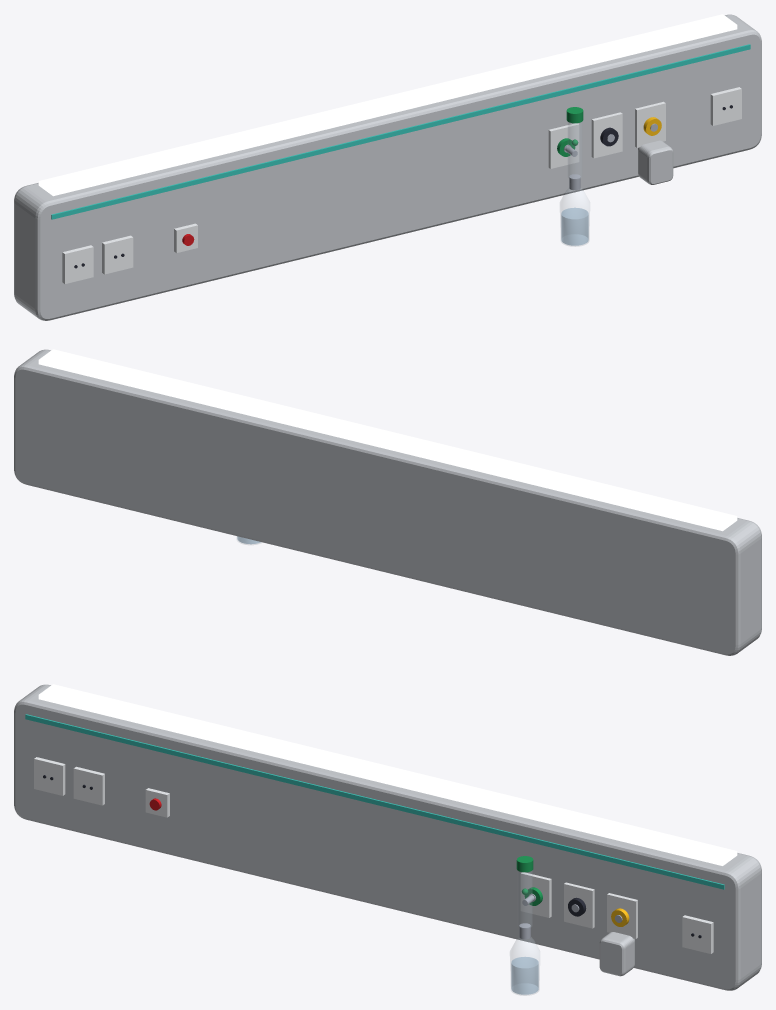
File: hos-007.glb
The picture shows the model from 3 angles, top to bottom: view 1: azimuth 30°, elevation 25°; view 2: azimuth 150°, elevation 25°; view 3: azimuth 330°, elevation 25°; orthographic projection.
Visible parts, largest first — view 1: bed_frame, lamp_diffuser, white, accent_teal, glass_clear, liquid_water; view 2: bed_frame, lamp_diffuser; view 3: bed_frame, lamp_diffuser, white, accent_teal, glass_clear, liquid_water.
Boxes of the visible parts, x1=… form: bed_frame: x1=14, y1=14, x2=761, y2=320; lamp_diffuser: x1=38, y1=14, x2=737, y2=196; white: x1=62, y1=87, x2=741, y2=283; accent_teal: x1=51, y1=44, x2=750, y2=219; glass_clear: x1=560, y1=122, x2=589, y2=246; liquid_water: x1=561, y1=207, x2=588, y2=245; bed_frame: x1=14, y1=349, x2=761, y2=655; lamp_diffuser: x1=38, y1=349, x2=737, y2=531; bed_frame: x1=14, y1=684, x2=761, y2=990; lamp_diffuser: x1=38, y1=684, x2=737, y2=865; white: x1=34, y1=757, x2=713, y2=953; accent_teal: x1=25, y1=714, x2=724, y2=889; glass_clear: x1=510, y1=871, x2=539, y2=995; liquid_water: x1=511, y1=957, x2=538, y2=994.
Size of the model in its own units: 2.02 by 0.422 by 0.217.
